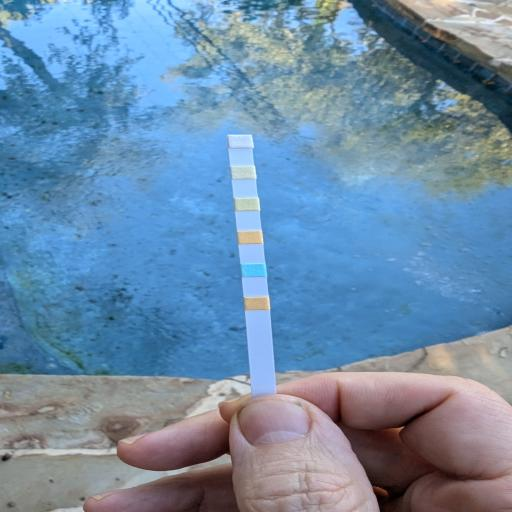strip: (226, 134, 277, 398)
